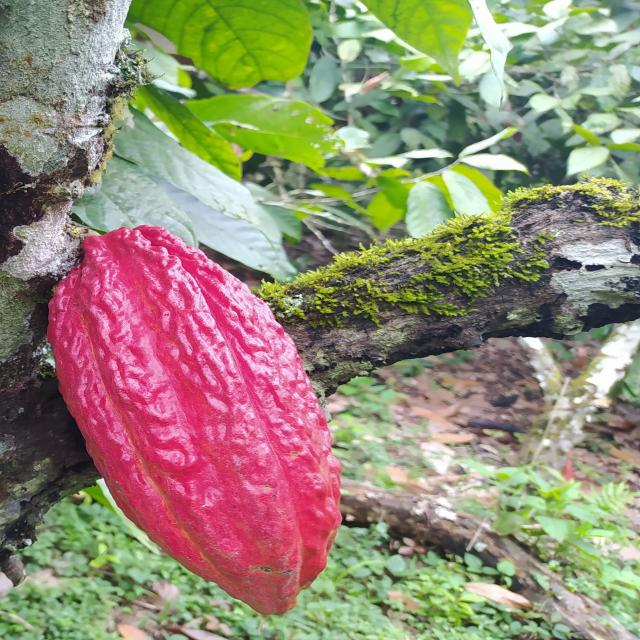Sana: (46, 222, 358, 618)
